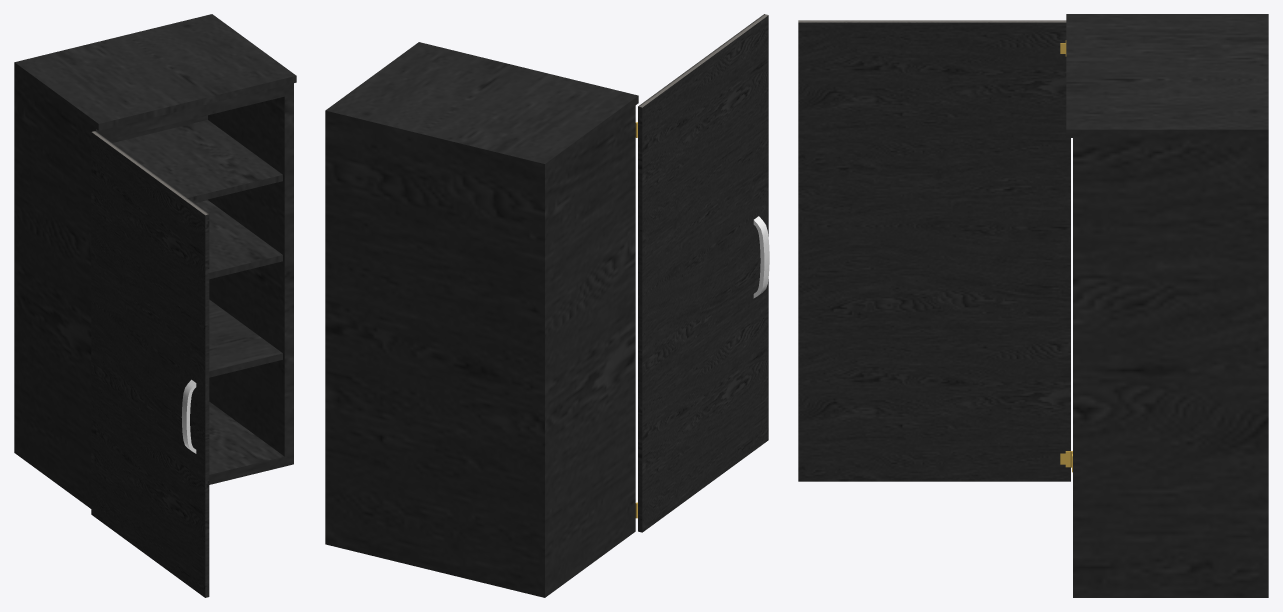
The model's file is Closet49.fbx.
The picture shows the model from 3 angles, left to right: view 1: azimuth 30°, elevation 25°; view 2: azimuth 150°, elevation 25°; view 3: azimuth 270°, elevation 25°; orthographic projection. The views are drawn at different scales.
Parts seen in each view (by area): view 1: Closet49, Closet49Door; view 2: Closet49, Closet49Door; view 3: Closet49Door, Closet49.
Boxes of the visible parts, left/top/right/bottom form: Closet49: left=14, top=14, right=296, bottom=508; Closet49Door: left=91, top=131, right=209, bottom=597; Closet49: left=325, top=42, right=638, bottom=597; Closet49Door: left=635, top=14, right=769, bottom=532; Closet49Door: left=798, top=20, right=1072, bottom=481; Closet49: left=1066, top=14, right=1268, bottom=597.
Bounding box in the file's own units: 66.96 × 117 × 107.
